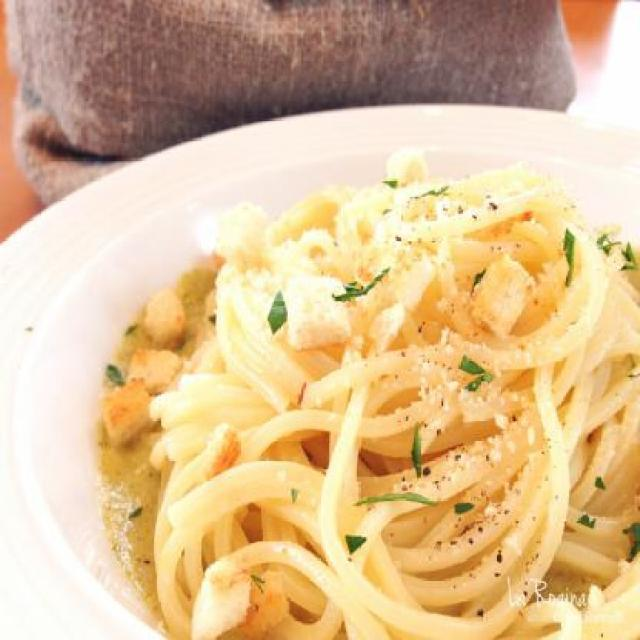Oil pasta: (118, 99, 640, 639)
